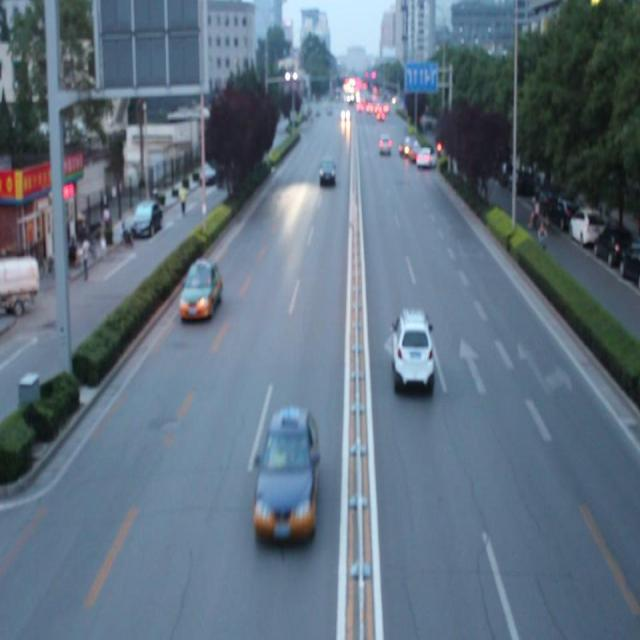car: (253, 404, 320, 544), (390, 305, 436, 394), (178, 256, 221, 322)
